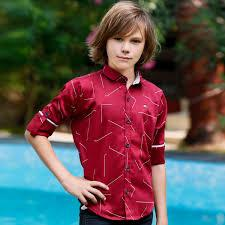shirt: (23, 65, 177, 222)
